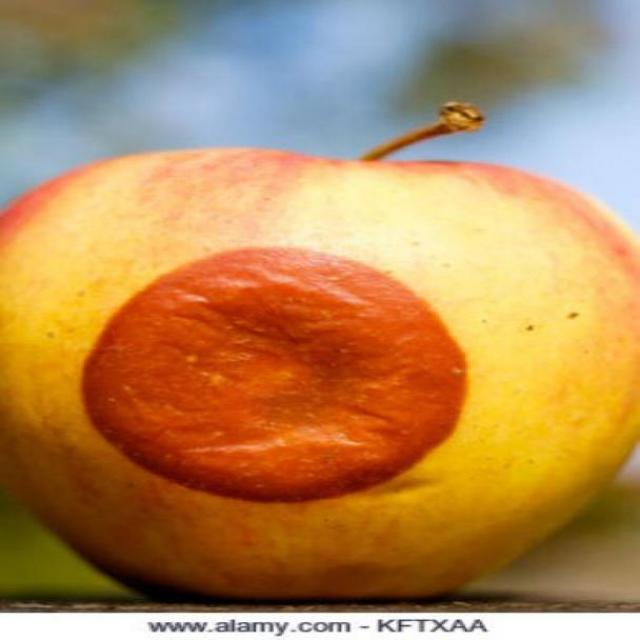ROT: (12, 123, 640, 602)
